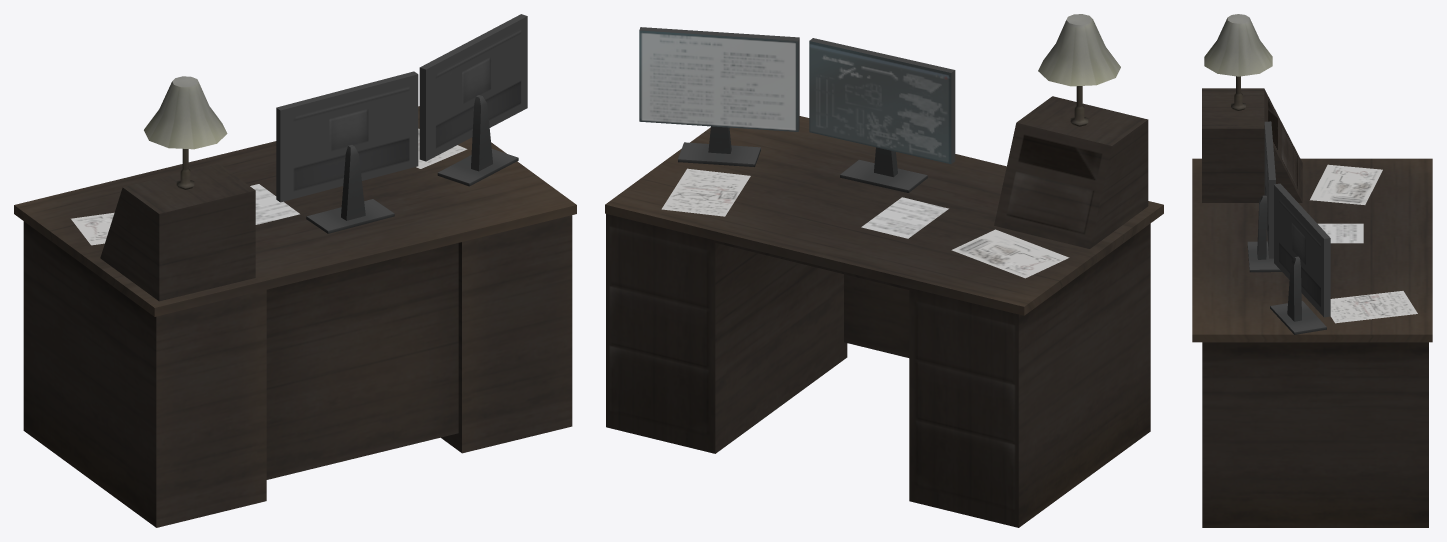
File: BgMD_Tanihira_KyoujuDesk_0101.fbx
The picture shows the model from 3 angles, left to right: view 1: azimuth 30°, elevation 25°; view 2: azimuth 150°, elevation 25°; view 3: azimuth 270°, elevation 25°; orthographic projection. The views are drawn at different scales.
Visible parts, largest first — view 1: pPlane8; view 2: pPlane8; view 3: pPlane8.
Boxes of the visible parts, box(x1,y1,x2,y2) form: pPlane8: box(14, 14, 576, 527); pPlane8: box(605, 14, 1163, 527); pPlane8: box(1192, 14, 1432, 527).
Size of the model in its own units: 150 by 133 by 81.27.
